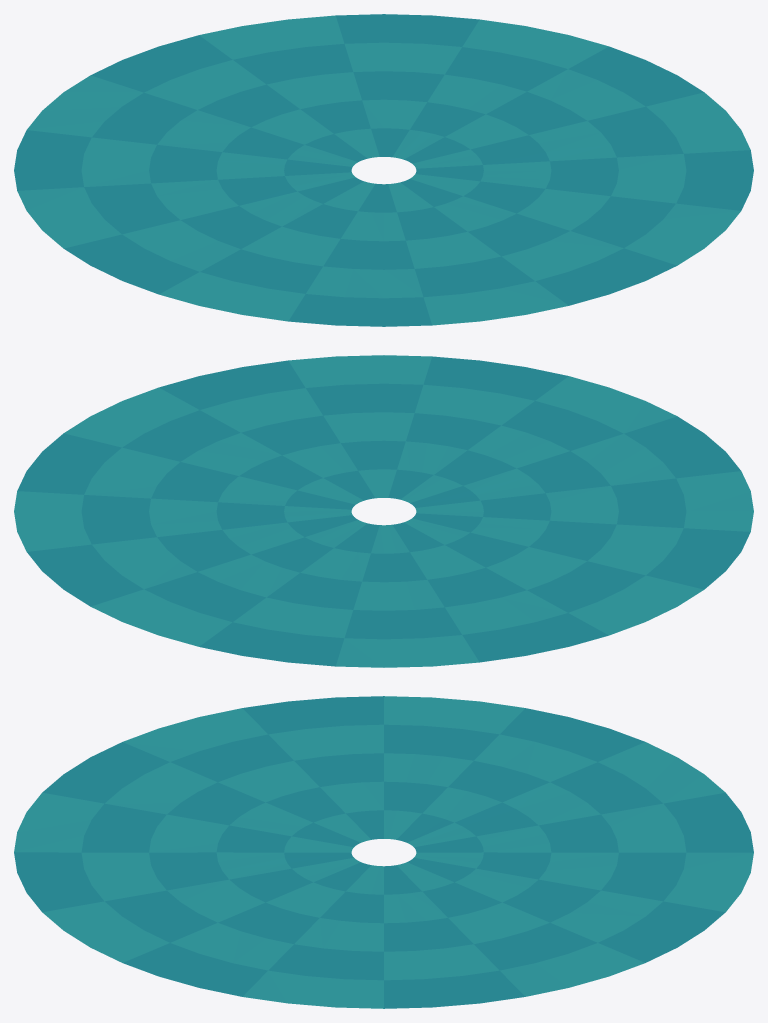
The model's file is W2_Ground_Skirt.fbx.
3 renders of one model, top to bottom at view 1: azimuth 30°, elevation 25°; view 2: azimuth 150°, elevation 25°; view 3: azimuth 270°, elevation 25°, orthographic.
Visible parts, largest first — view 1: W2_Ground_Skirt; view 2: W2_Ground_Skirt; view 3: W2_Ground_Skirt.
Boxes of the visible parts, left/top/right/bottom form: W2_Ground_Skirt: left=14, top=14, right=753, bottom=326; W2_Ground_Skirt: left=14, top=355, right=753, bottom=667; W2_Ground_Skirt: left=14, top=696, right=753, bottom=1008.
Bounding box in the file's own units: 6400 × 1.04 × 6400.
